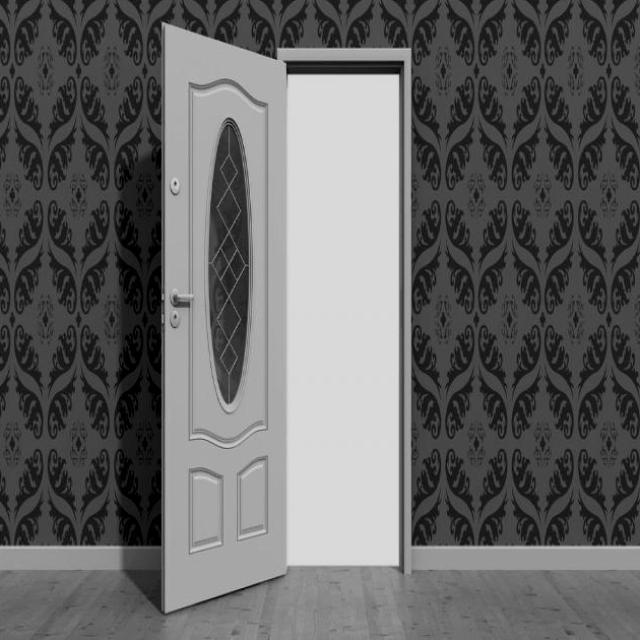door: (158, 21, 288, 613)
